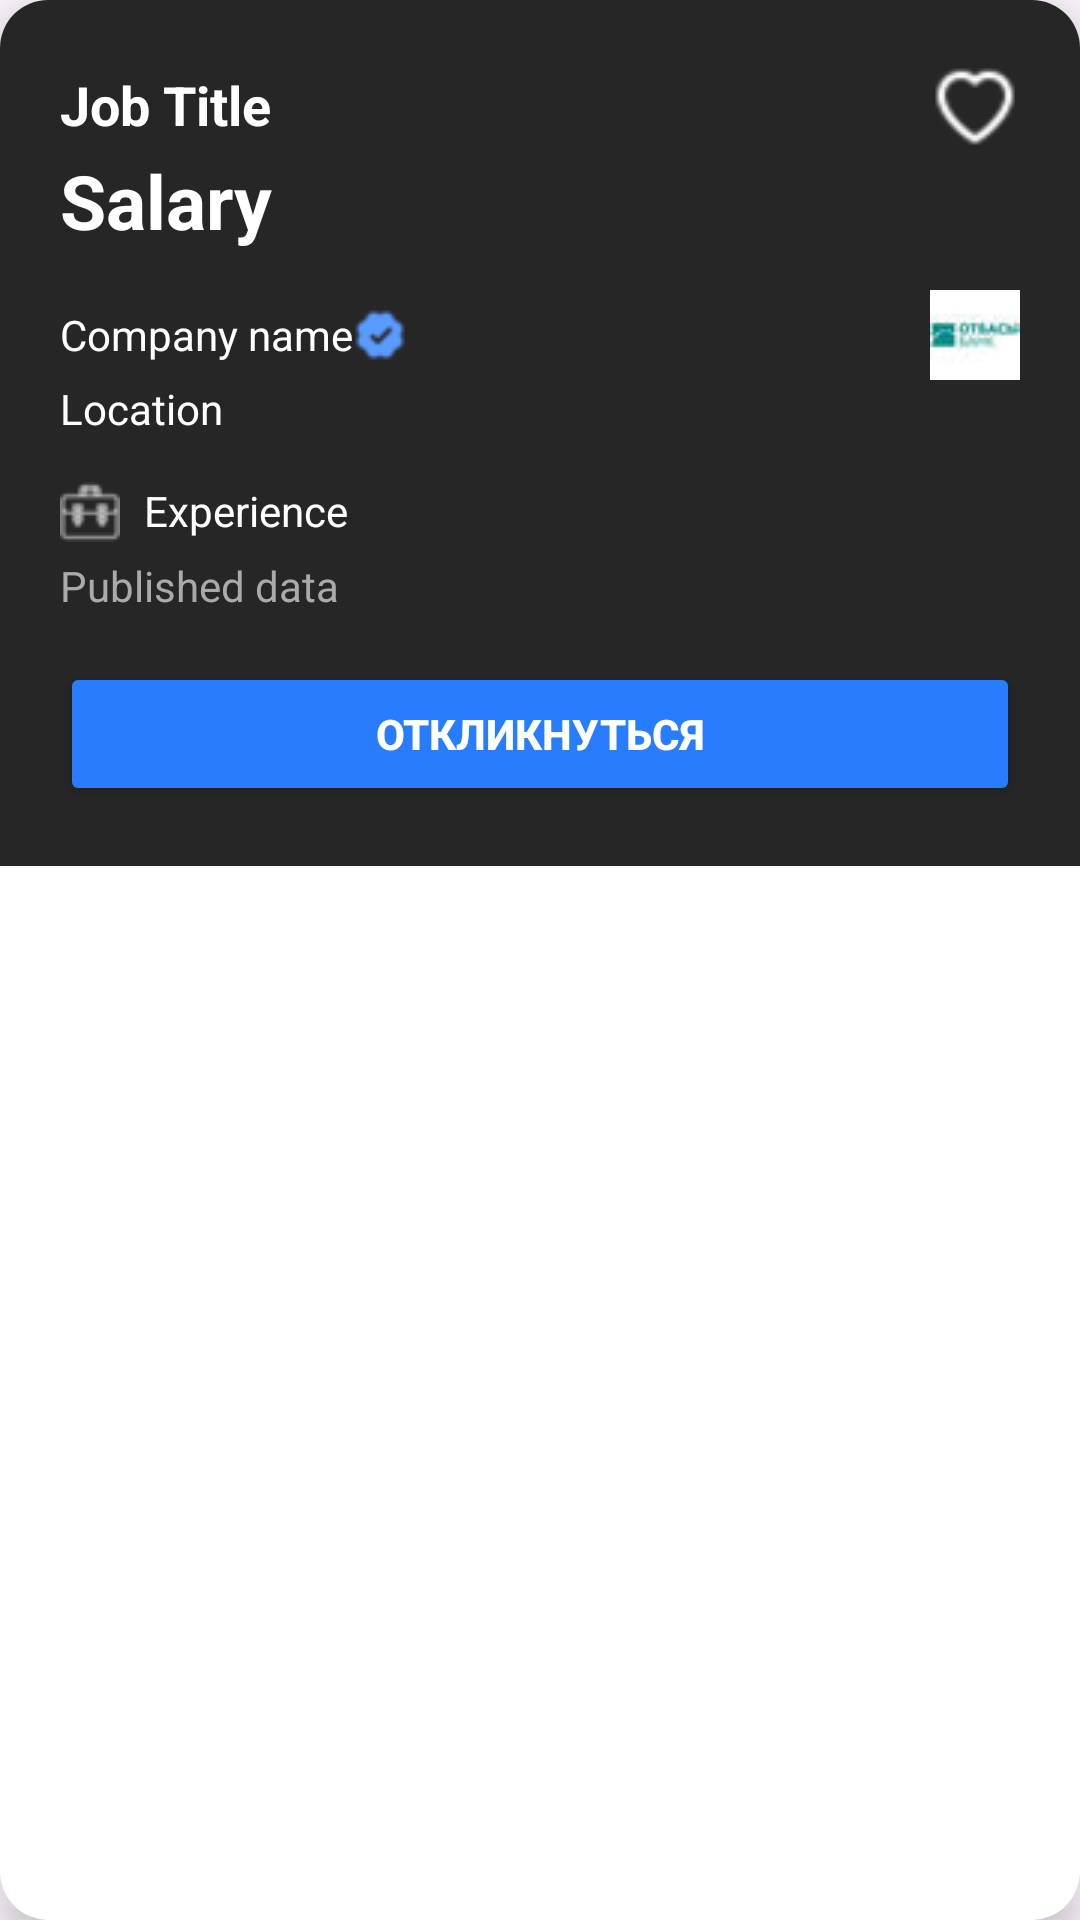

Point at icon controls on the screen. Image size 1080x1920, points as (x,y).
checkicon: (380,335)
save icon: (975,107)
